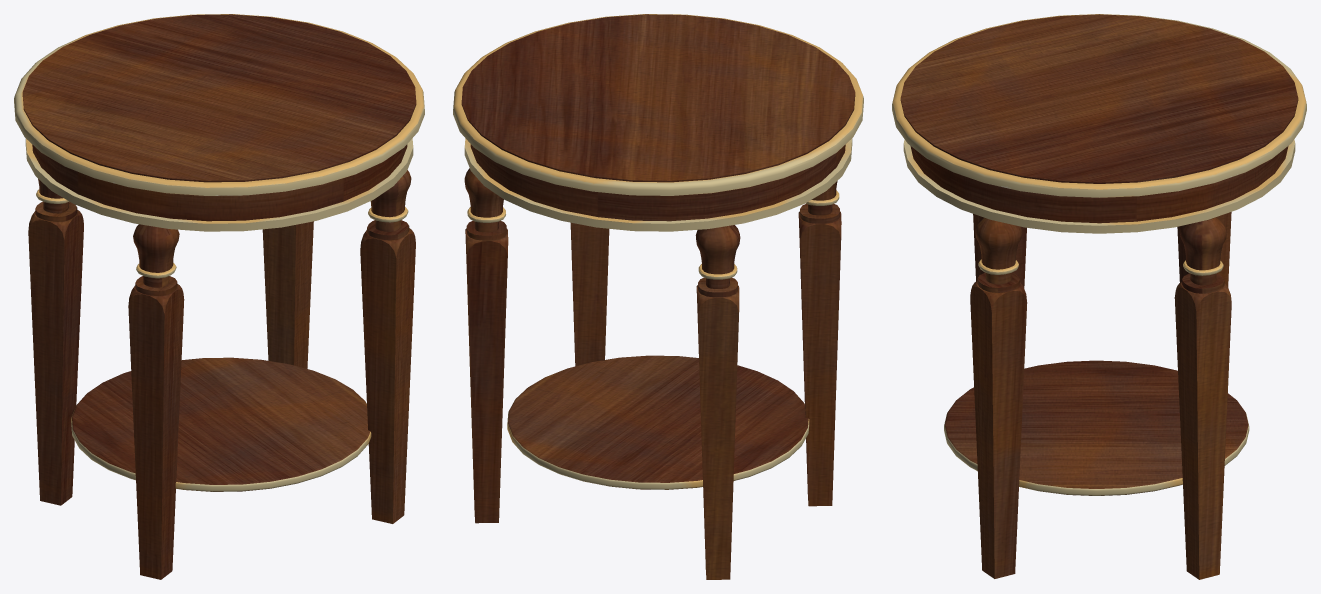
Rendered from table_final.fbx.
3 views of the same model, side by side, from view 1: azimuth 30°, elevation 25°; view 2: azimuth 150°, elevation 25°; view 3: azimuth 270°, elevation 25° (orthographic).
Parts seen in each view (by area): view 1: Circle.003; view 2: Circle.003; view 3: Circle.003.
Part boxes in pixels (<box>): Circle.003: <box>14,14,424,579</box>; Circle.003: <box>453,14,863,579</box>; Circle.003: <box>892,14,1306,579</box>.
Size of the model in its own units: 17746 by 19602 by 17746.
